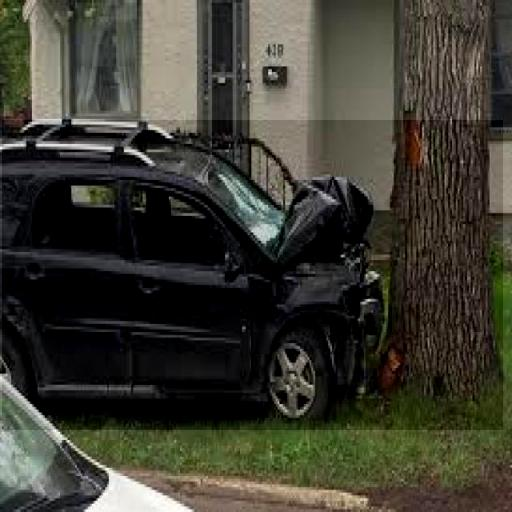小汽车撞物: (2, 120, 503, 430)
